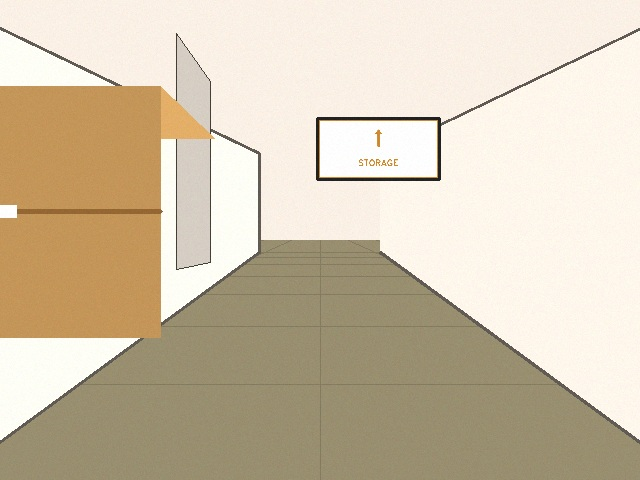box: (0, 86, 214, 337)
directional_sign: (317, 118, 439, 179)
